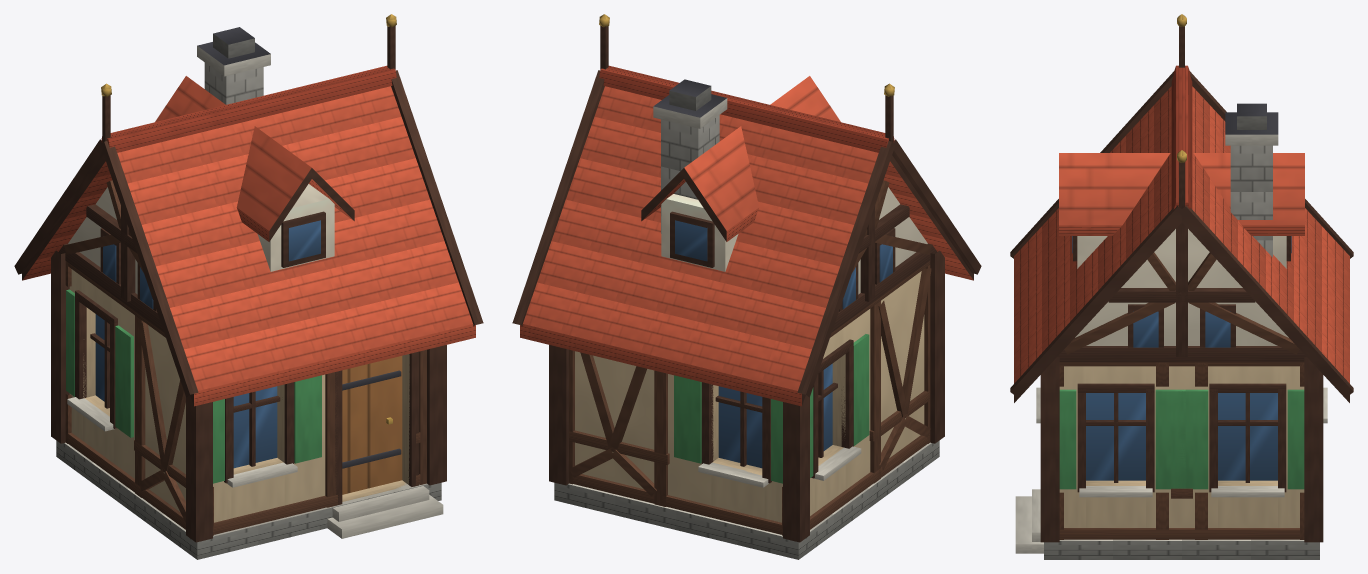
File: res_cottage_01.glb
3 renders of one model, left to right at view 1: azimuth 30°, elevation 25°; view 2: azimuth 150°, elevation 25°; view 3: azimuth 270°, elevation 25°, orthographic. The views are drawn at different scales.
Parts seen in each view (by area): view 1: res_cottage_01; view 2: res_cottage_01; view 3: res_cottage_01.
Boxes of the visible parts, bbox=[...] form: res_cottage_01: bbox=[14, 14, 483, 559]; res_cottage_01: bbox=[512, 14, 981, 559]; res_cottage_01: bbox=[1010, 14, 1353, 559].
Bounding box in the file's own units: 5.52 × 7.7 × 5.71.
1 material, 1 textured.
